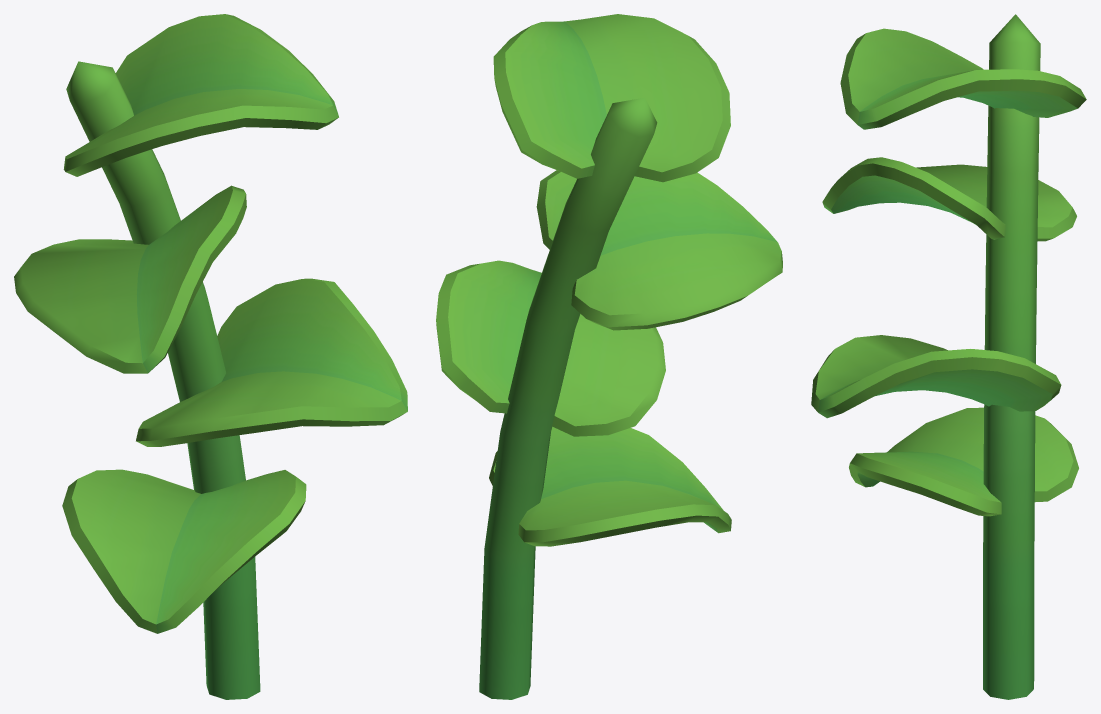
Rendered from pothos.glb.
The picture shows the model from 3 angles, left to right: view 1: azimuth 30°, elevation 25°; view 2: azimuth 150°, elevation 25°; view 3: azimuth 270°, elevation 25°; orthographic projection. The views are drawn at different scales.
Parts seen in each view (by area): view 1: pothos_vine_large_D; view 2: pothos_vine_large_D; view 3: pothos_vine_large_D.
Part boxes in pixels (x1,y1,x2,y2): pothos_vine_large_D: [14, 14, 407, 699]; pothos_vine_large_D: [436, 14, 782, 699]; pothos_vine_large_D: [811, 14, 1086, 699].
Bounding box in the file's own units: 0.6792 × 1.4 × 0.5645.
1 material, 1 textured.
